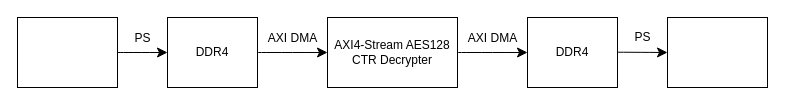
Some shapes in this 785 by 105 pixel diagram are drawn without their labels. The box of each missing label's shape, as (x1, y1, x2, y2) in pixels:
Ethernet PHY: (16, 16, 118, 88)
QSPI Flash: (666, 16, 768, 88)
